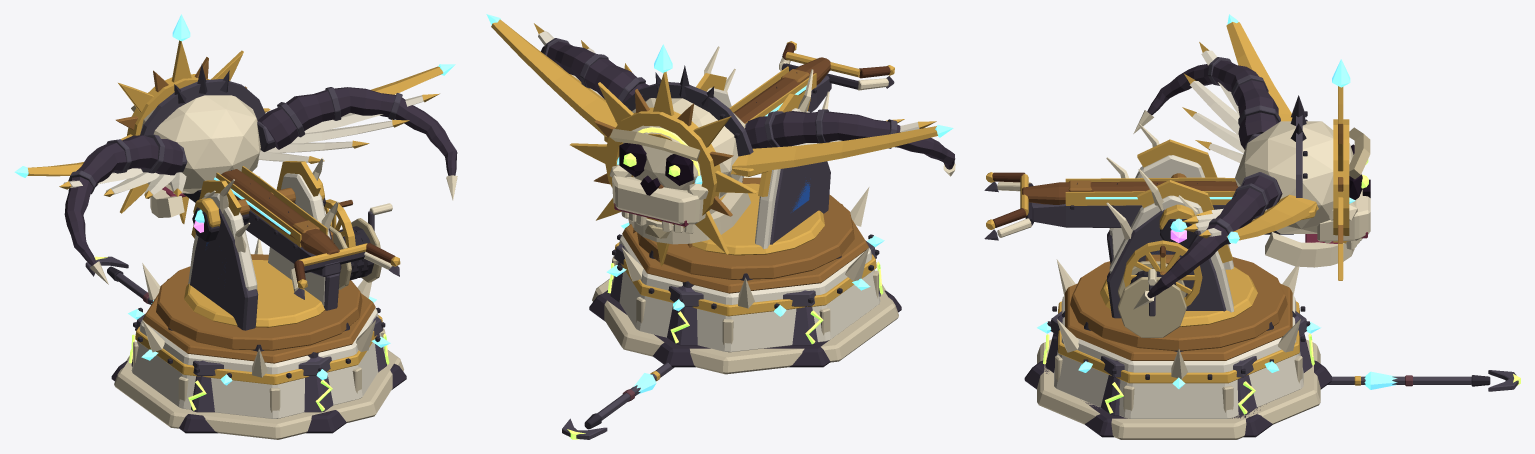
Rendered from keep_ballistas.glb.
The picture shows the model from 3 angles, left to right: view 1: azimuth 30°, elevation 25°; view 2: azimuth 150°, elevation 25°; view 3: azimuth 270°, elevation 25°; orthographic projection. The views are drawn at different scales.
Parts seen in each view (by area): view 1: S_Base, S_Turret, G_Cradle, S_Cradle, G_Base, G_Turret, G_HornR, G_HornL, S_WingR, S_WingL, G_Drum, G_Harpoon (+2 smaller); view 2: S_Base, G_Cradle, S_Cradle, S_Turret, G_Base, G_HornL, S_WingL, G_Turret, S_WingR, G_HornR, G_Jaw, G_Harpoon; view 3: S_Base, S_Turret, G_Cradle, S_Cradle, G_Base, G_Turret, G_HornL, G_HornR, S_WingL, G_Drum, S_WingR, G_Jaw (+3 smaller).
Boxes of the visible parts, x1,y1,x2,y2 form: S_Base: (114,279,403,439); S_Turret: (156,161,362,350); G_Cradle: (131,64,399,299); S_Cradle: (116,14,400,289); G_Base: (111,238,406,433); G_Turret: (168,157,349,351); G_HornR: (257,87,457,200); G_HornL: (64,134,183,284); S_WingR: (258,64,455,163); S_WingL: (14,162,186,198); G_Drum: (329,203,392,289); G_Harpoon: (85,256,154,304); S_Base: (592,204,898,374); G_Cradle: (609,56,894,233); S_Cradle: (570,41,894,265); S_Turret: (637,73,854,279); G_Base: (589,176,901,367); G_HornL: (745,109,955,176); S_WingL: (730,119,953,176); G_Turret: (649,46,841,280); S_WingR: (486,14,633,142); G_HornR: (541,38,648,103); G_Jaw: (630,192,750,244); G_Harpoon: (562,362,674,439); S_Base: (1037,283,1320,439); S_Turret: (1070,139,1287,350); G_Cradle: (984,95,1370,250); S_Cradle: (986,59,1359,280); G_Base: (1024,259,1332,437); G_Turret: (1084,123,1273,351); G_HornL: (1133,57,1280,149); G_HornR: (1133,172,1282,309); S_WingL: (1182,14,1292,162); G_Drum: (1118,261,1186,337); S_WingR: (1182,194,1318,243); G_Jaw: (1265,232,1354,267).
Bounding box in the file's own units: 4 × 2.77 × 4.03.
